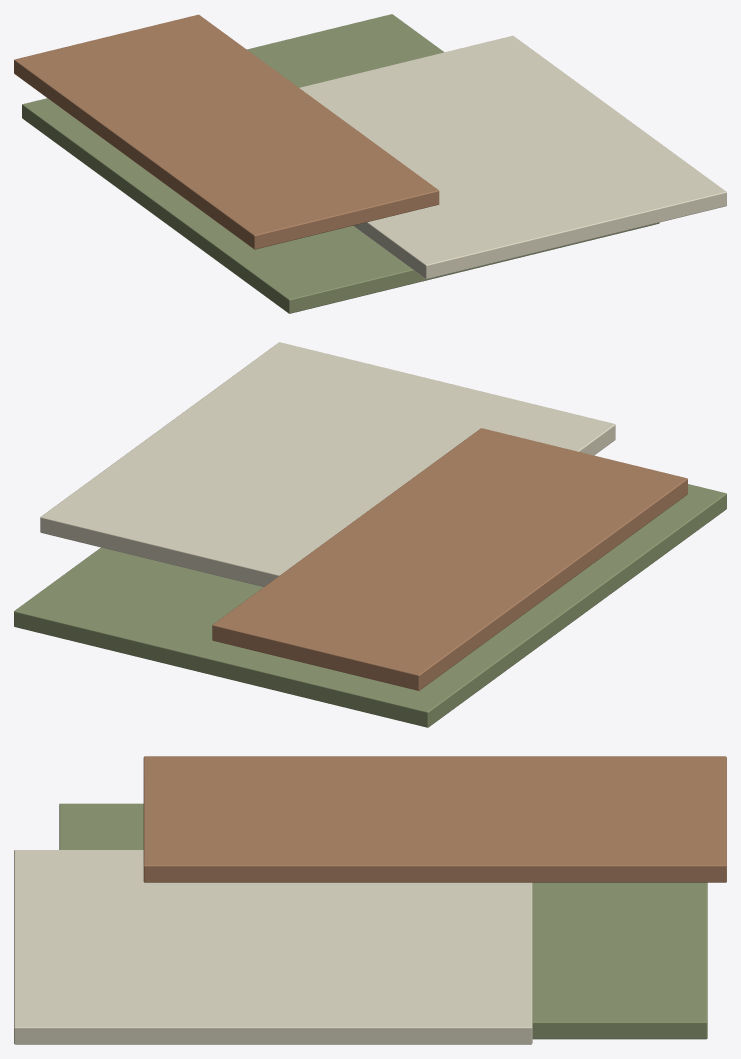
The model's file is scavengers-loot-library-cloth-patches-a436b7c6__2682.glb.
3 renders of one model, top to bottom at view 1: azimuth 30°, elevation 25°; view 2: azimuth 150°, elevation 25°; view 3: azimuth 270°, elevation 25°, orthographic. The views are drawn at different scales.
Visible parts, largest first — view 1: cloth-patches; view 2: cloth-patches; view 3: cloth-patches.
Part boxes in pixels (x1,y1,x2,y2): cloth-patches: (14,14,726,313); cloth-patches: (14,342,726,727); cloth-patches: (14,756,726,1044).
Size of the model in its own units: 0.0905 by 0.011 by 0.11.
